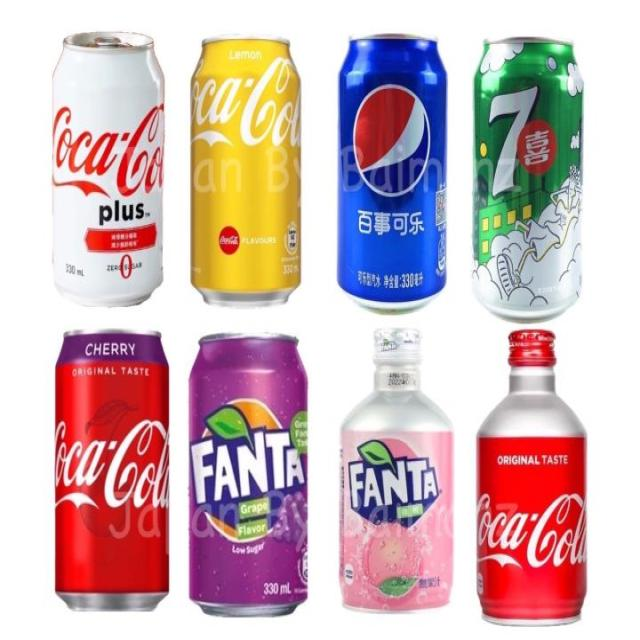bottle: (472, 329, 590, 626), (336, 325, 456, 614)
can: (186, 329, 312, 619), (51, 326, 171, 610), (472, 34, 584, 326), (51, 27, 165, 306), (335, 33, 447, 315), (189, 37, 303, 309)
